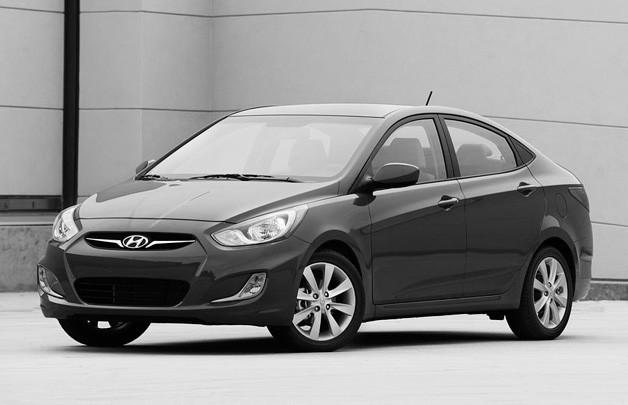car: (38, 90, 592, 352)
